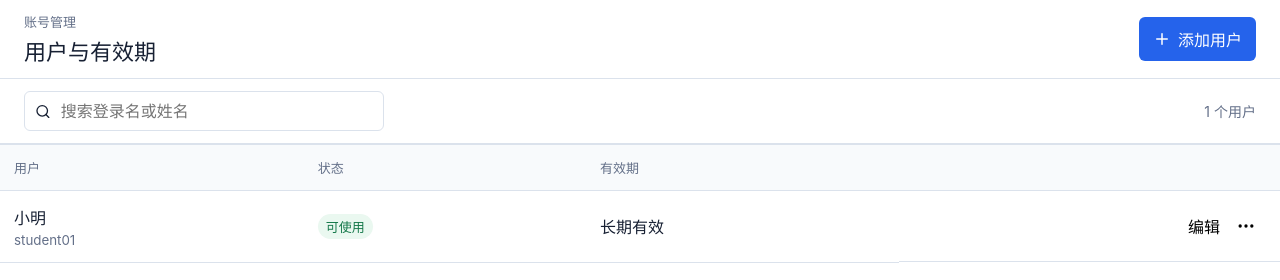
Test case: AdminUsersView › shows searchable user rows and a create action
Type "不存在" into the search field with placeholder "搜索登录名或姓名". click: (216, 111)
box: [59,100,373,122]
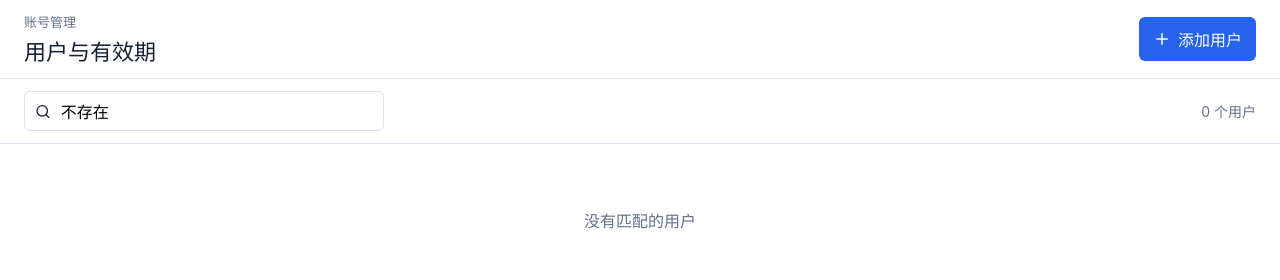
Check: the text "没有匹配的用户" is shown, box [584,211,696,231]
